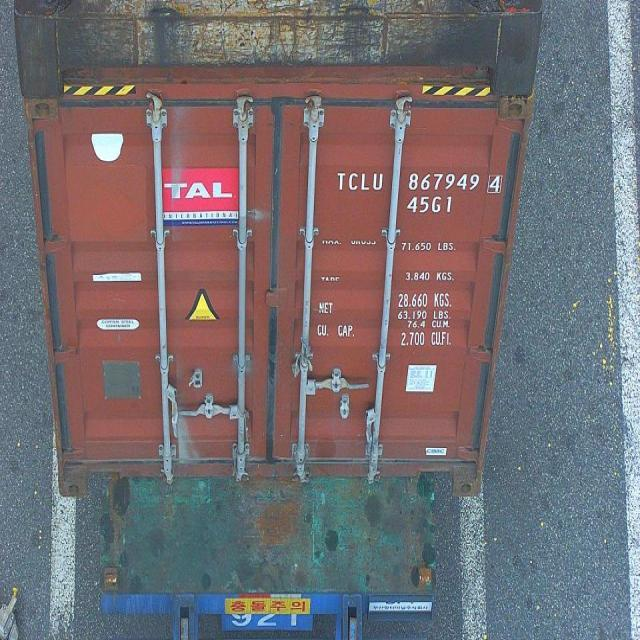ISO: (406, 190, 458, 212)
container_number: (332, 166, 510, 193)
